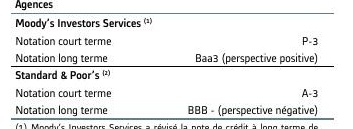table: (0, 0, 353, 129)
